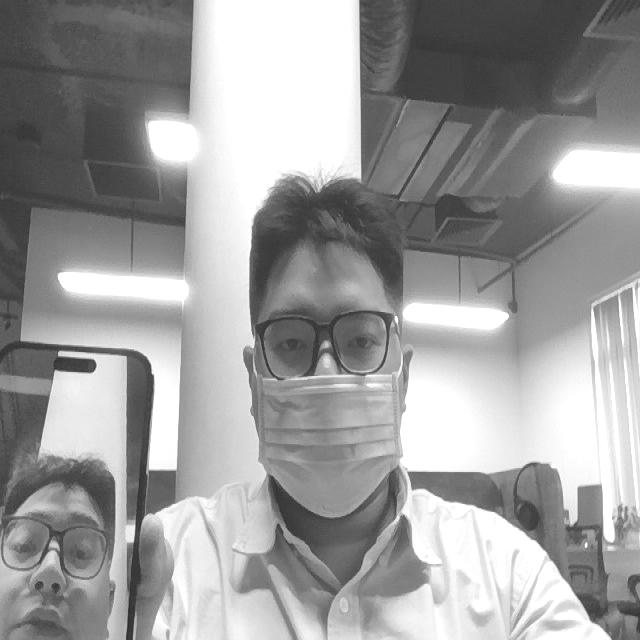fake: (2, 303, 175, 640), (232, 359, 416, 526), (3, 447, 119, 640)
real: (227, 122, 433, 582), (247, 306, 400, 378)
